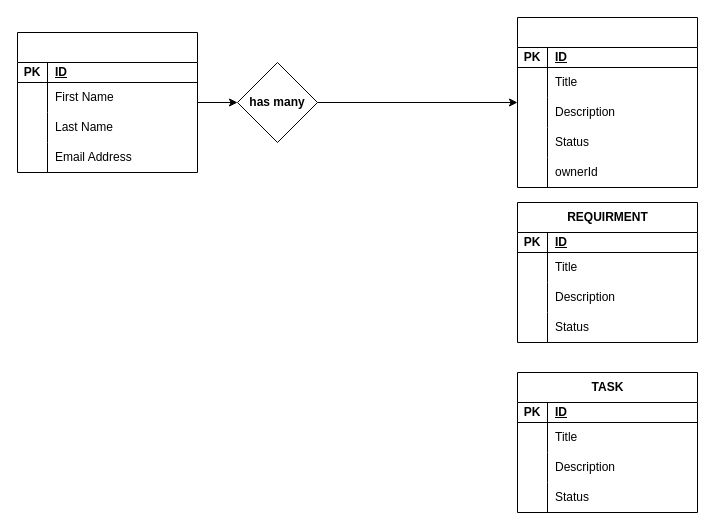
Image size: 715x530. Some labels were removed from this diagram. Each missing label, with the box of its shape:
PROJECT: (516, 16, 698, 188)
USER: (16, 32, 198, 172)
